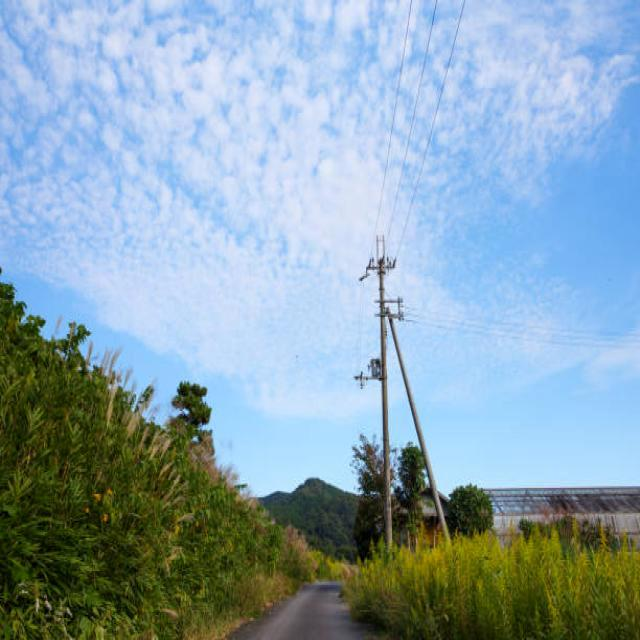Broken Pole: (386, 310, 454, 556)
